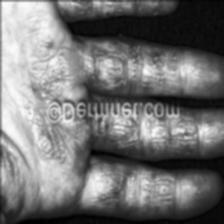Non-Cancerous Skin Condition: (19, 0, 203, 91)
